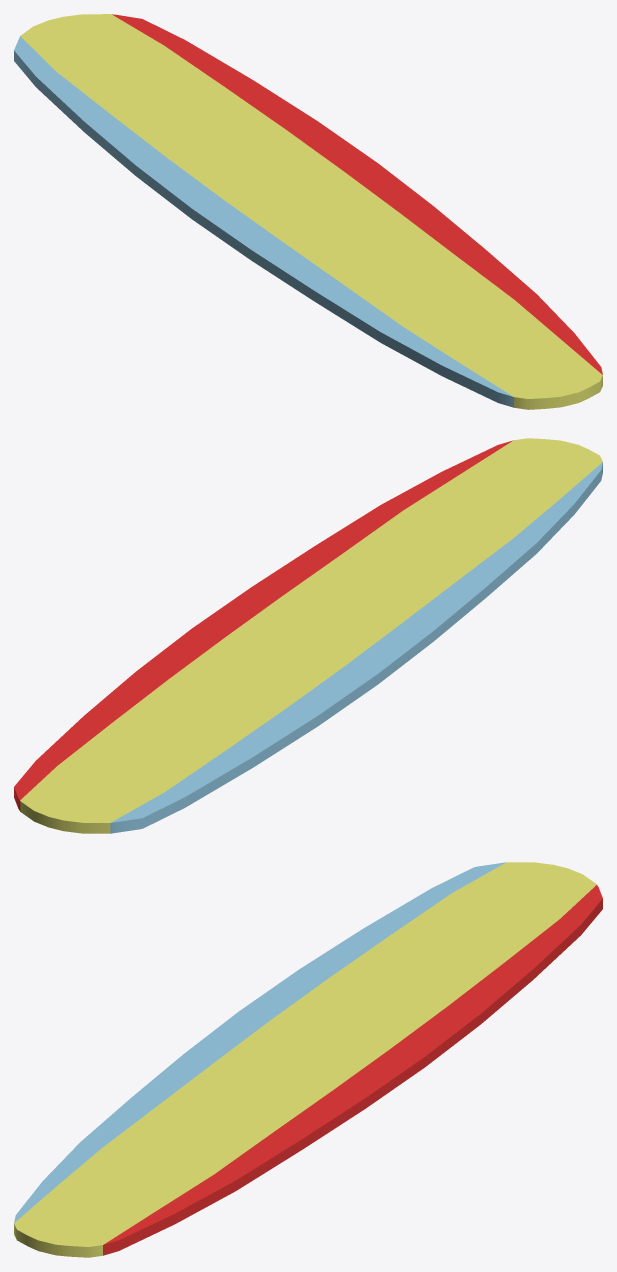
File: board_A.fbx
3 renders of one model, top to bottom at view 1: azimuth 30°, elevation 25°; view 2: azimuth 150°, elevation 25°; view 3: azimuth 330°, elevation 25°, orthographic.
Parts seen in each view (by area): view 1: board_A; view 2: board_A; view 3: board_A.
Part boxes in pixels (x1,y1,x2,y2): board_A: [14, 14, 602, 409]; board_A: [14, 438, 602, 833]; board_A: [14, 862, 602, 1257].
Size of the model in its own units: 41.71 by 2.31 by 199.
